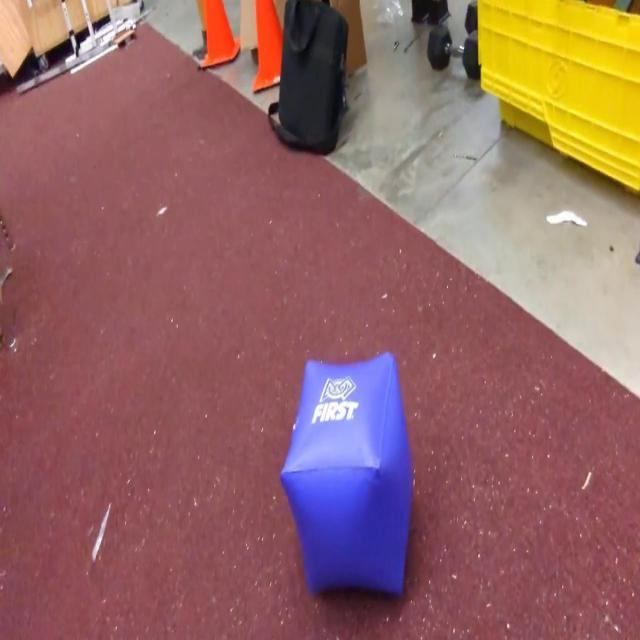frc_cube: (280, 349, 412, 596)
